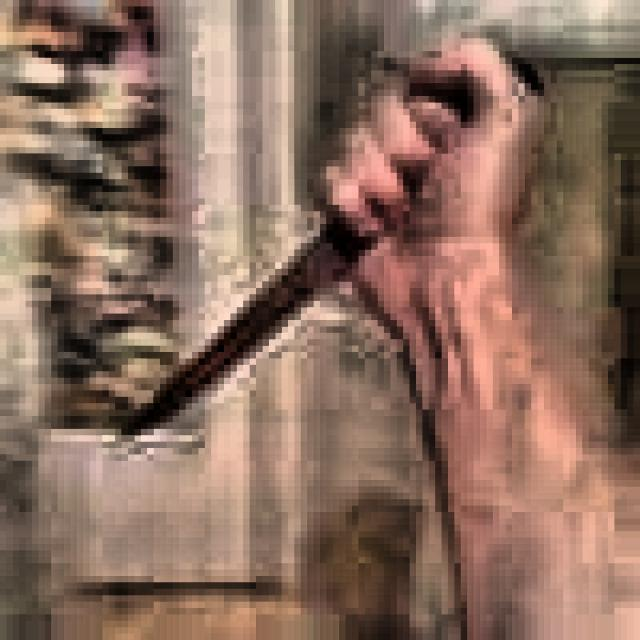knife: (125, 63, 540, 441)
